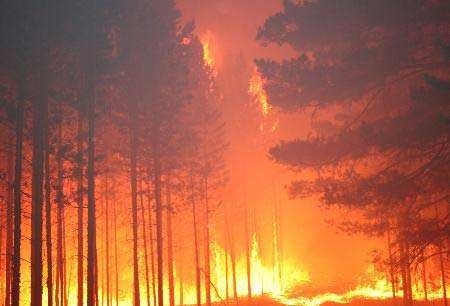fire: (2, 249, 446, 303), (246, 60, 275, 121), (198, 32, 223, 72)
